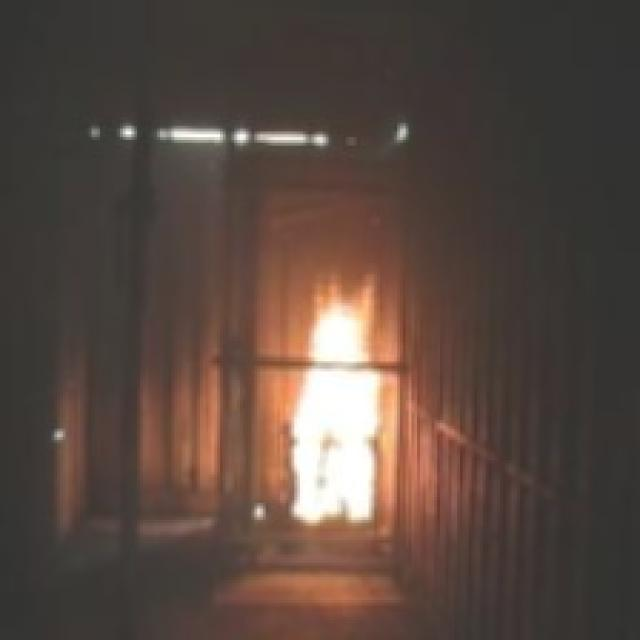fire: (278, 270, 398, 524)
